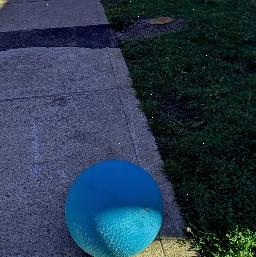algae: (63, 153, 167, 257)
